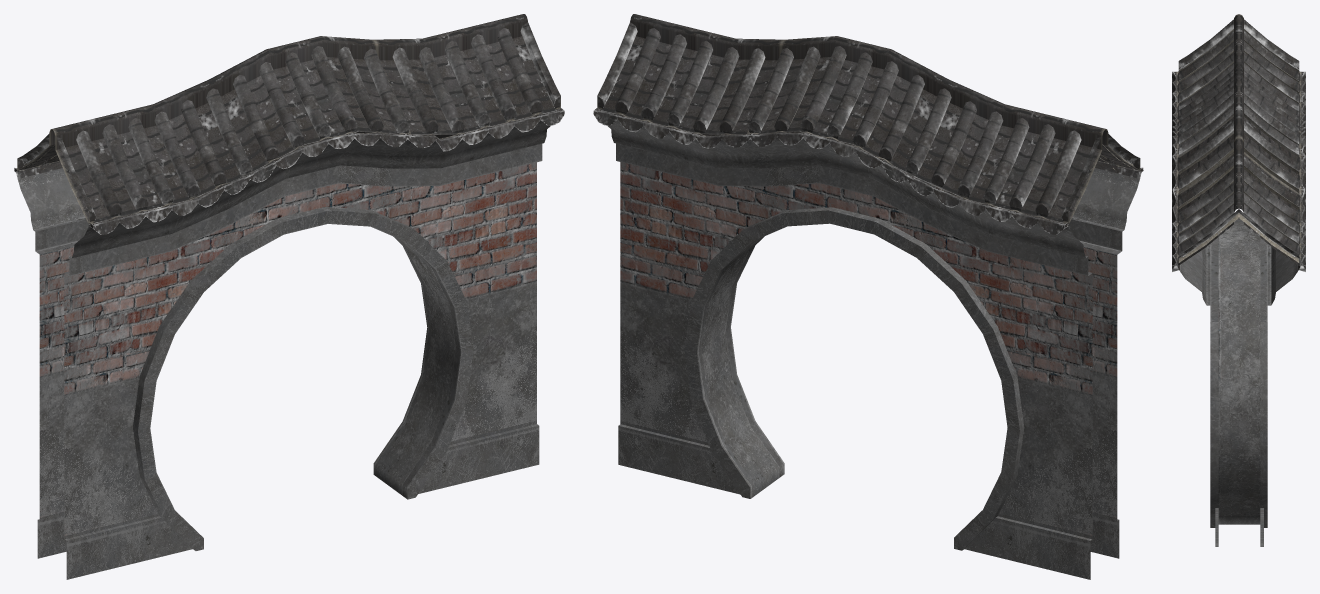
File: hutong_courtyard_moongate.fbx
3 renders of one model, left to right at view 1: azimuth 30°, elevation 25°; view 2: azimuth 150°, elevation 25°; view 3: azimuth 270°, elevation 25°, orthographic. The views are drawn at different scales.
Visible parts, largest first — view 1: hutong_moon_gate_a; view 2: hutong_moon_gate_a; view 3: hutong_moon_gate_a.
Boxes of the visible parts, <box> form: hutong_moon_gate_a: <box>14,14,564,579</box>; hutong_moon_gate_a: <box>593,14,1143,579</box>; hutong_moon_gate_a: <box>1172,14,1305,546</box>.
Size of the model in its own units: 380 by 359 by 111.
Materials: 2 (2 with a texture image).
